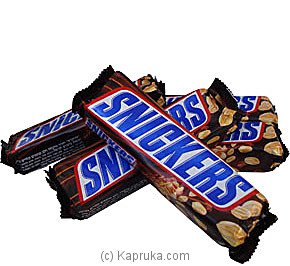snickers: (91, 91, 252, 203), (91, 95, 252, 203), (82, 94, 205, 196), (17, 106, 79, 145)
